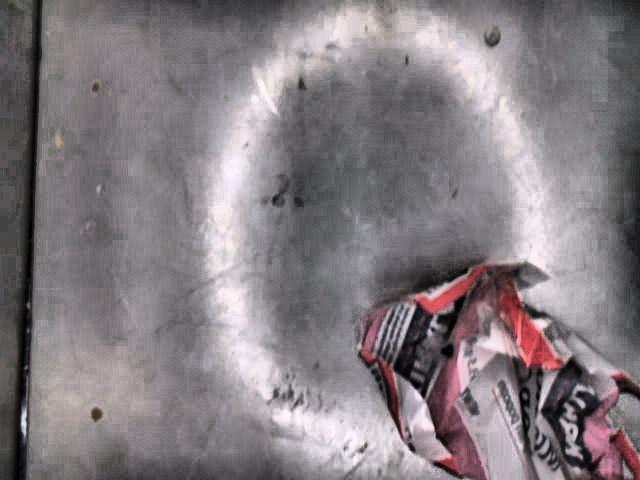Plastic: (352, 261, 639, 479)
